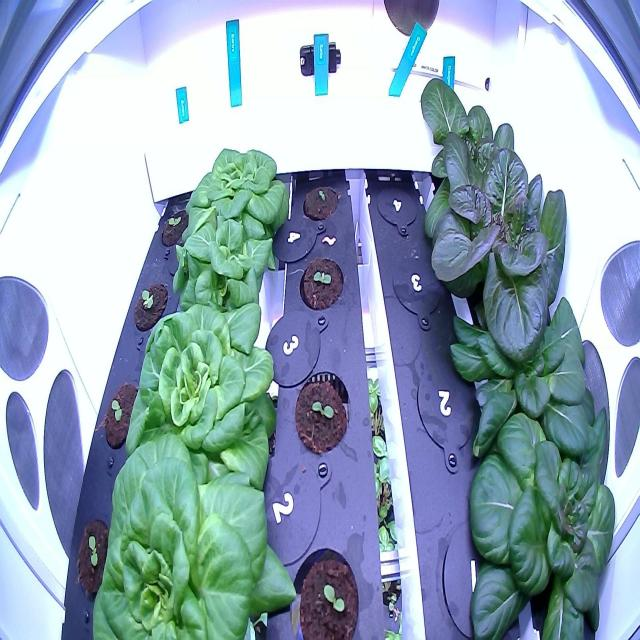empty_pod: (438, 508, 522, 637), (411, 350, 491, 476), (390, 247, 447, 332), (375, 172, 423, 240)
germination: (287, 537, 364, 639), (289, 360, 355, 458), (74, 512, 122, 607), (99, 378, 146, 459), (296, 252, 348, 315), (129, 274, 172, 334), (298, 174, 345, 224), (157, 199, 190, 252)
young: (87, 432, 302, 639), (459, 383, 625, 639), (443, 252, 605, 486), (426, 125, 581, 368), (120, 298, 282, 492), (418, 64, 550, 262), (178, 142, 293, 254), (167, 218, 277, 320)
